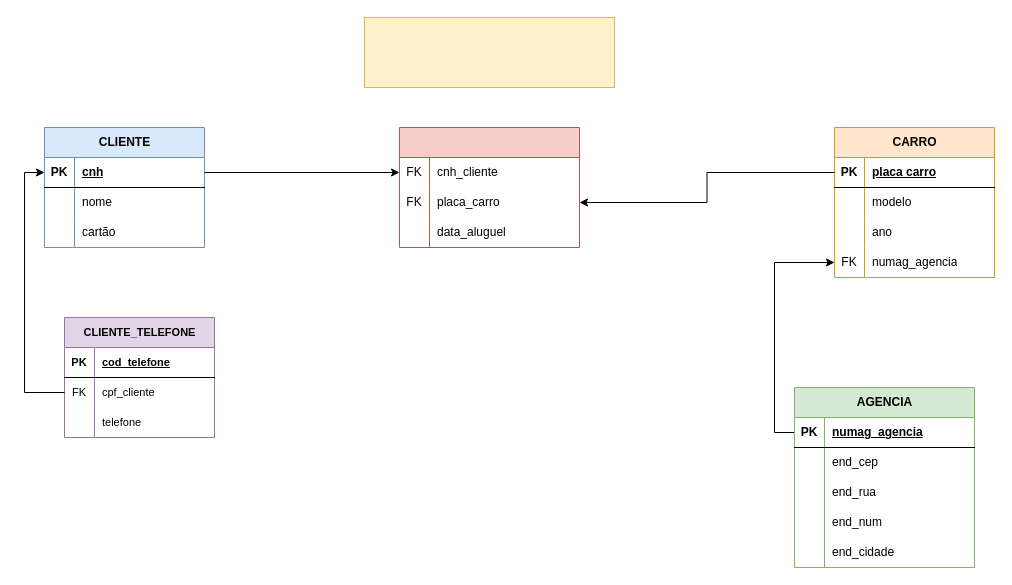
The diagram is 1012 pixels wide and 585 high, and some of its shapes have lost their labels. The shapes that lost their labels are listed below. From the top down, each one's box as (x1, y1, x2, y2) in pixels, then its label:
(364, 16, 614, 88): MODELO LÓGICO
(398, 126, 580, 248): CLIENTE_CARRO
